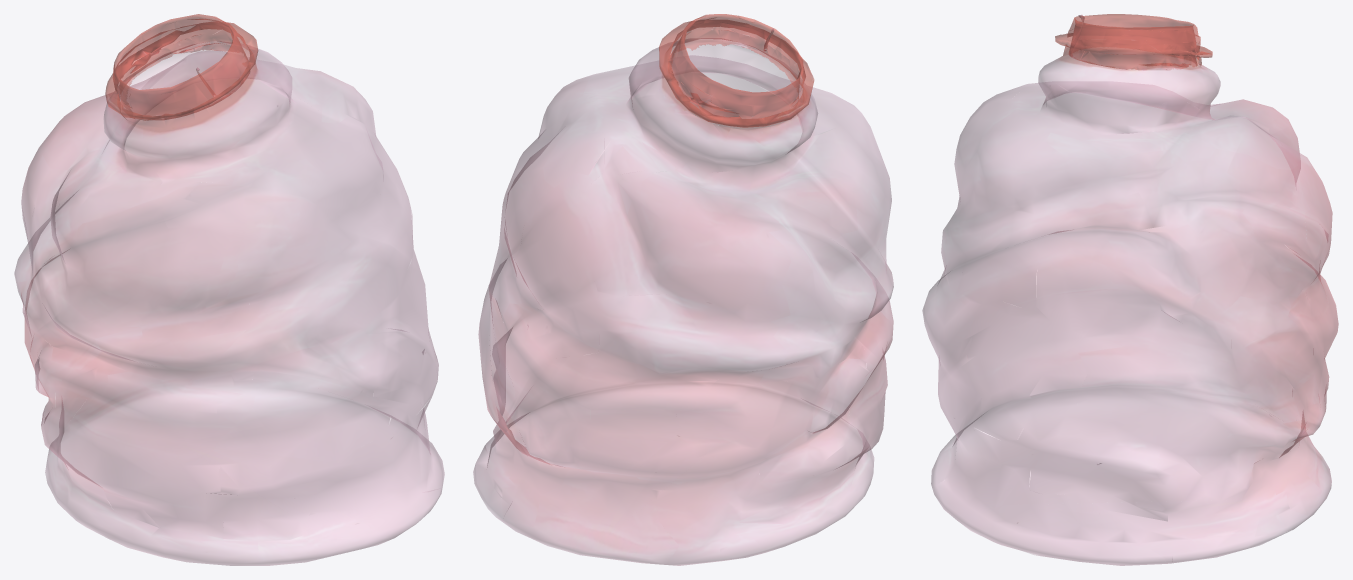
File: 07_11_nj_et_pnk_s_trs.glb
3 renders of one model, left to right at view 1: azimuth 30°, elevation 25°; view 2: azimuth 150°, elevation 25°; view 3: azimuth 270°, elevation 25°, orthographic. The views are drawn at different scales.
Visible parts, largest first — view 1: pnk.002; view 2: pnk.002; view 3: pnk.002.
Part boxes in pixels (<box>): pnk.002: <box>14,14,444,565</box>; pnk.002: <box>473,14,893,565</box>; pnk.002: <box>922,14,1338,565</box>.
Bounding box in the file's own units: 0.1544 × 0.19 × 0.155.
1 material, 1 textured.
